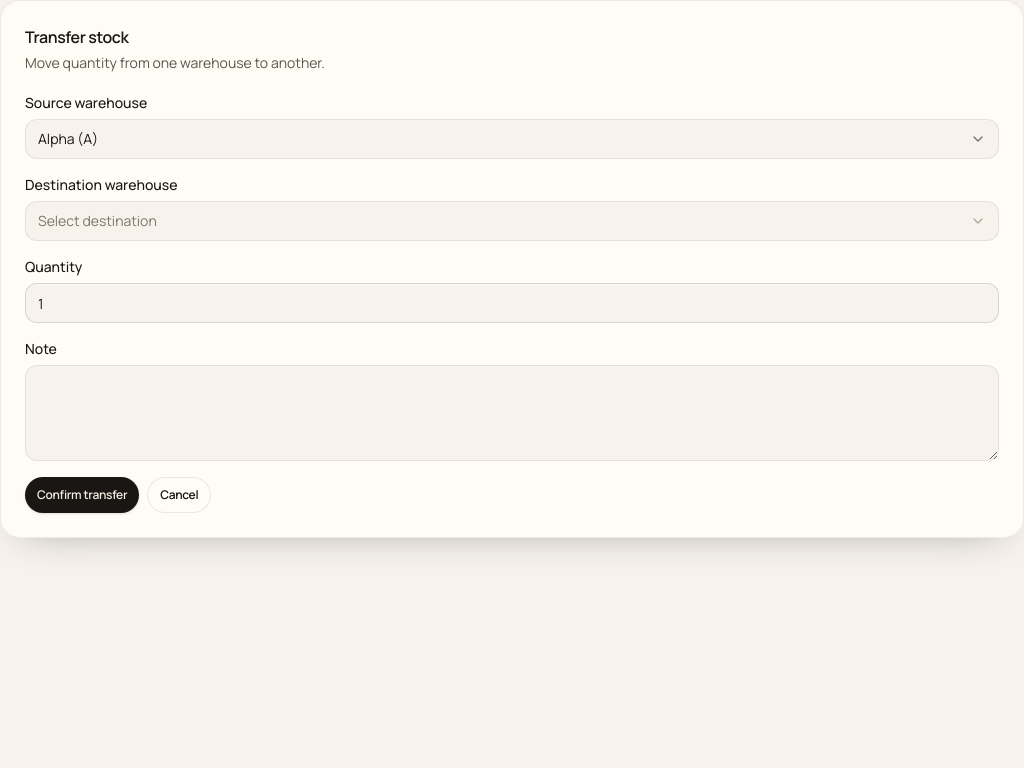
Scenario: TransferDialog › rejects transfer when source and destination match
Click the dropdown named "Destination warehouse" at [97, 220], box [25,201,999,241]
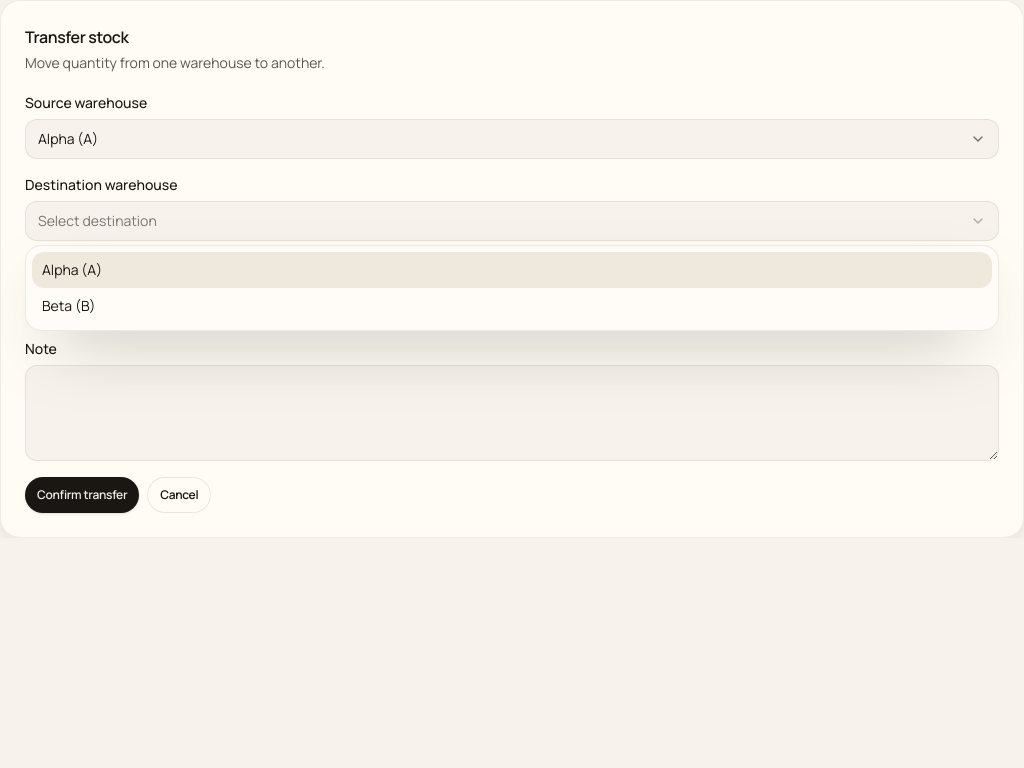
Click the option "Alpha (A)" at [60, 270], box [32,252,992,288]
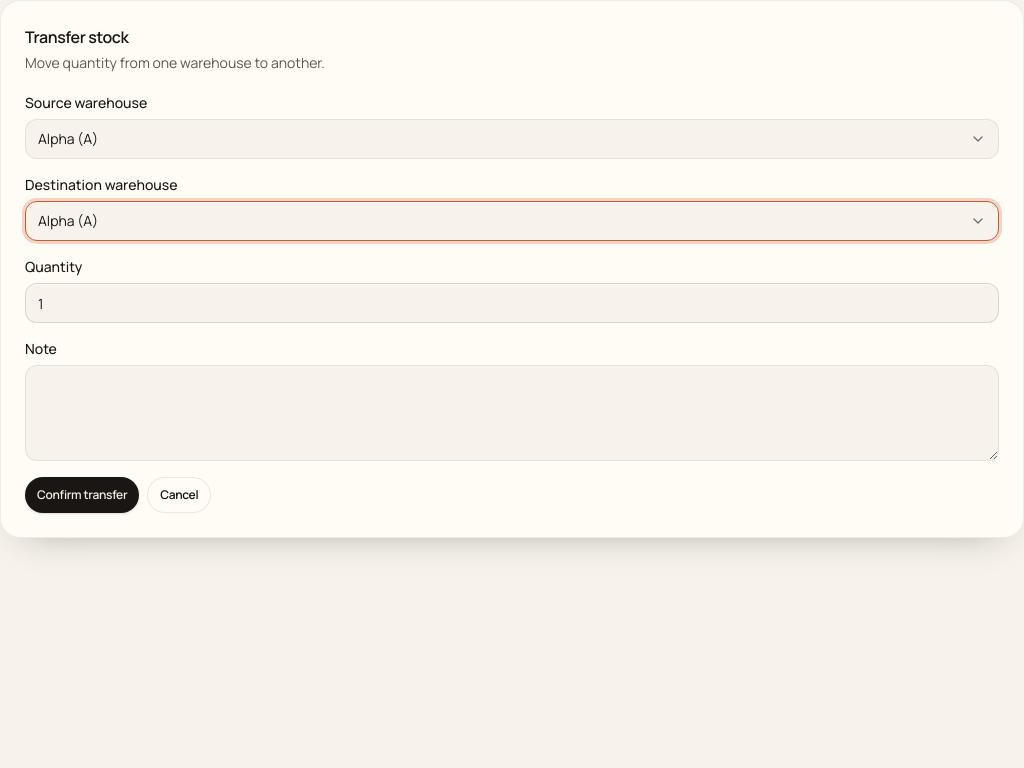
Click the button "Confirm transfer" at [82, 495], box [25,477,139,513]
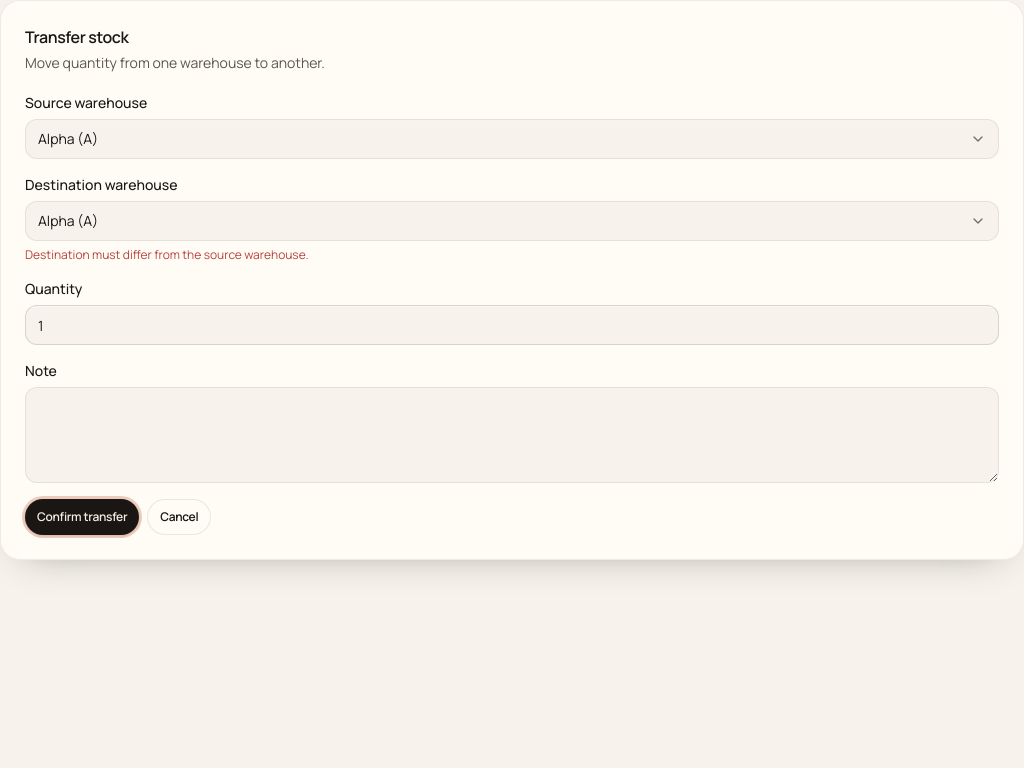
Expected: the text "Destination must differ from the source warehouse." is shown, [25,246,308,263]
